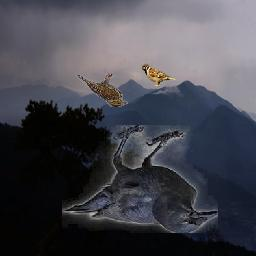Crow: (62, 125, 218, 233)
Sparrow: (76, 73, 128, 107), (140, 62, 178, 86)
